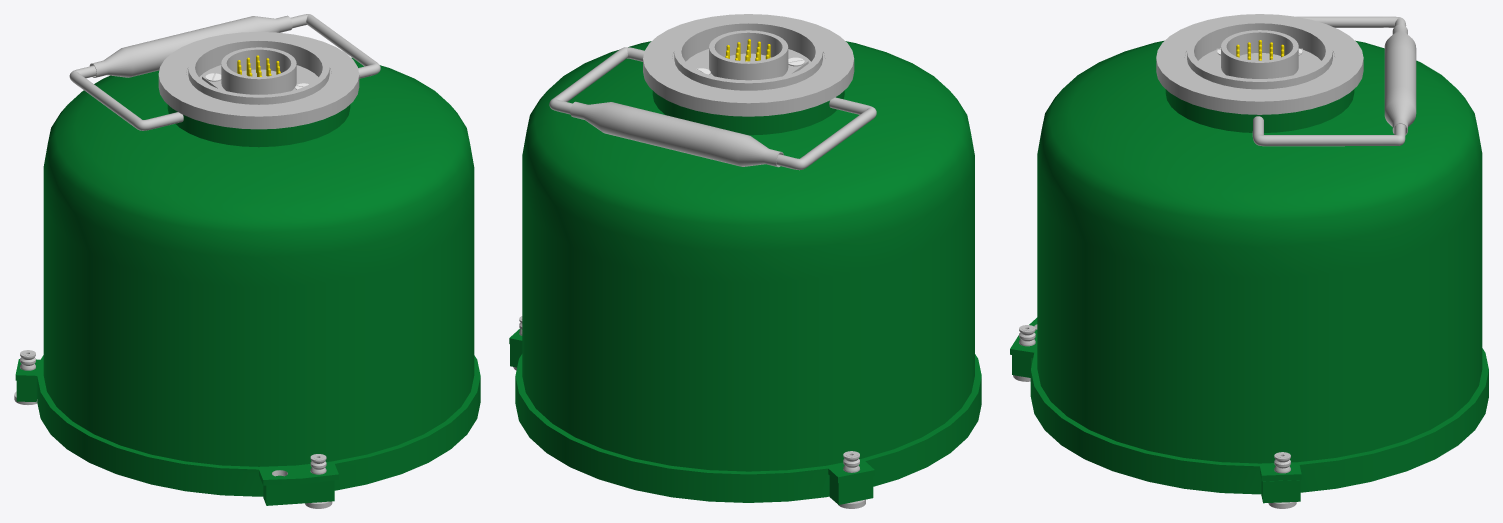
3 views of the same model, side by side, from view 1: azimuth 30°, elevation 25°; view 2: azimuth 150°, elevation 25°; view 3: azimuth 270°, elevation 25° (orthographic). The views are drawn at different scales.
Visible parts, largest first — view 1: 胶囊, 圆柱_2_2, 圆柱, 圆柱_1, 扫描, 管道, 立方体; view 2: 胶囊, 圆柱_2_2, 圆柱, 扫描, 管道, 圆柱_1, 立方体_2; view 3: 胶囊, 圆柱_2_2, 圆柱_1, 扫描, 管道, 圆柱, 立方体_1.
Part boxes in pixels (<box>): 胶囊: <box>15,57,480,496</box>; 圆柱_2_2: <box>158,31,359,129</box>; 圆柱: <box>89,15,292,77</box>; 圆柱_1: <box>167,104,350,147</box>; 扫描: <box>69,14,380,130</box>; 管道: <box>221,47,296,94</box>; 立方体: <box>263,475,334,505</box>; 胶囊: <box>509,41,981,502</box>; 圆柱_2_2: <box>643,14,854,116</box>; 圆柱: <box>570,101,783,167</box>; 扫描: <box>549,47,876,170</box>; 管道: <box>709,30,788,80</box>; 圆柱_1: <box>652,90,844,135</box>; 立方体_2: <box>829,476,873,504</box>; 胶囊: <box>1010,40,1488,494</box>; 圆柱_2_2: <box>1156,14,1363,114</box>; 圆柱_1: <box>1165,89,1354,132</box>; 扫描: <box>1252,16,1406,146</box>; 管道: <box>1221,30,1298,78</box>; 圆柱: <box>1384,24,1416,135</box>; 立方体_1: <box>1261,480,1300,503</box>.
Size of the model in its own units: 86.47 by 70.66 by 86.14.
